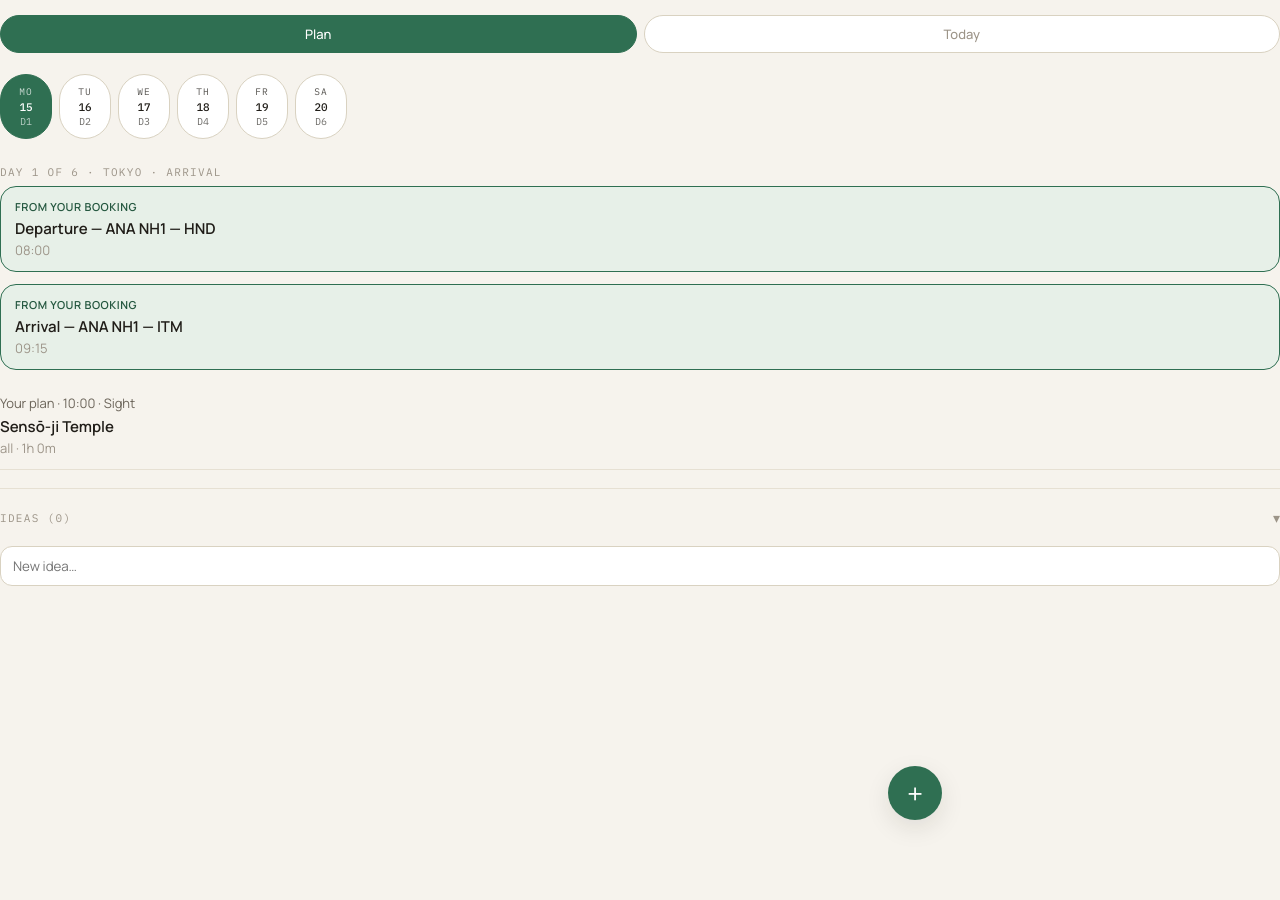
Scenario: ItineraryTab — auto-pulled entries stay read-only projections › tapping an auto-pulled flight entry opens the read-only Flight View, not an editable form
This screenshot has width=1280, height=900.
Click the button "FROM YOUR BOOKING Departure — ANA NH1 — HND 08:00". click: coordinates (76, 206)
box: left=0, top=186, right=1279, bottom=272
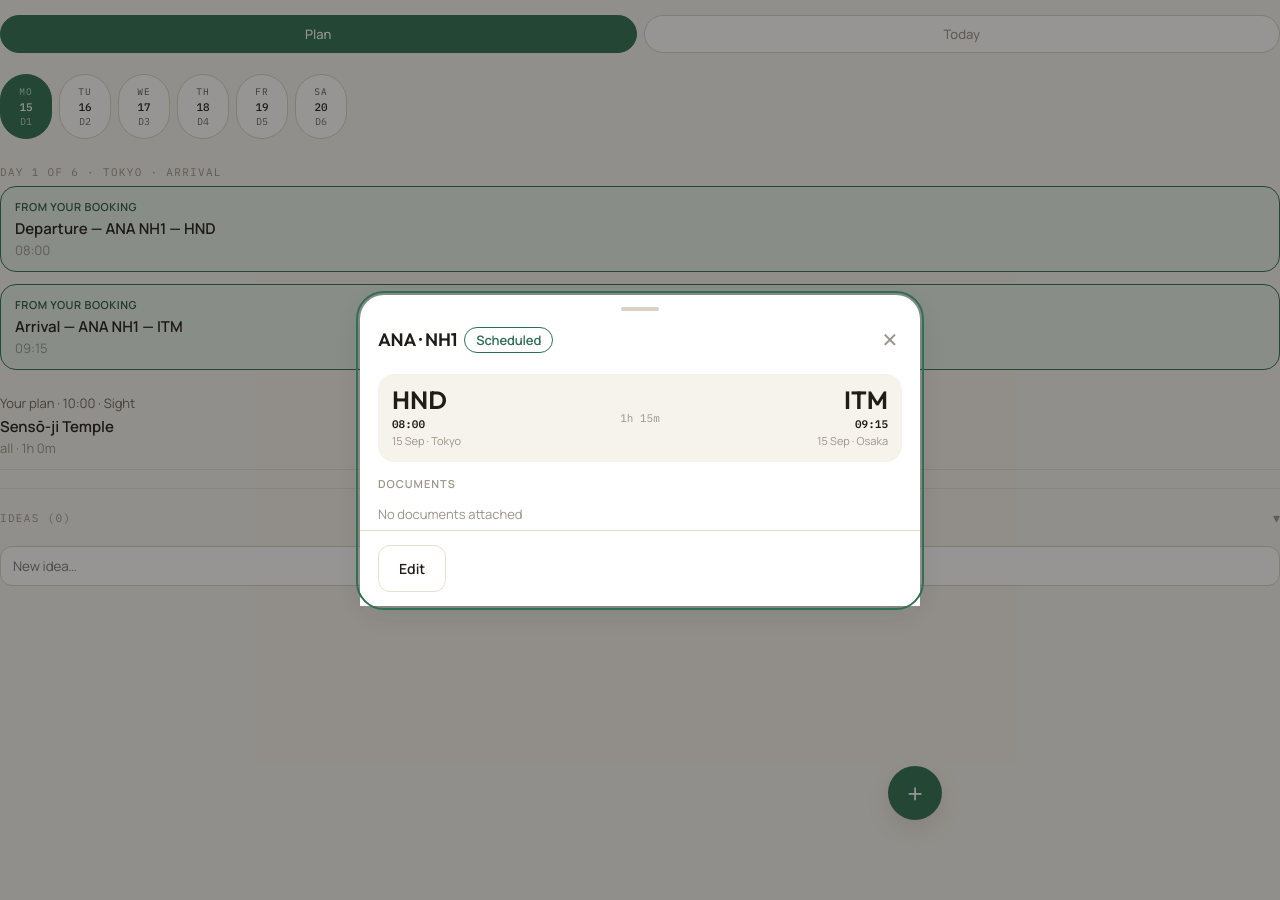
Expected: the text "HND" is shown, left=392, top=384, right=447, bottom=416
